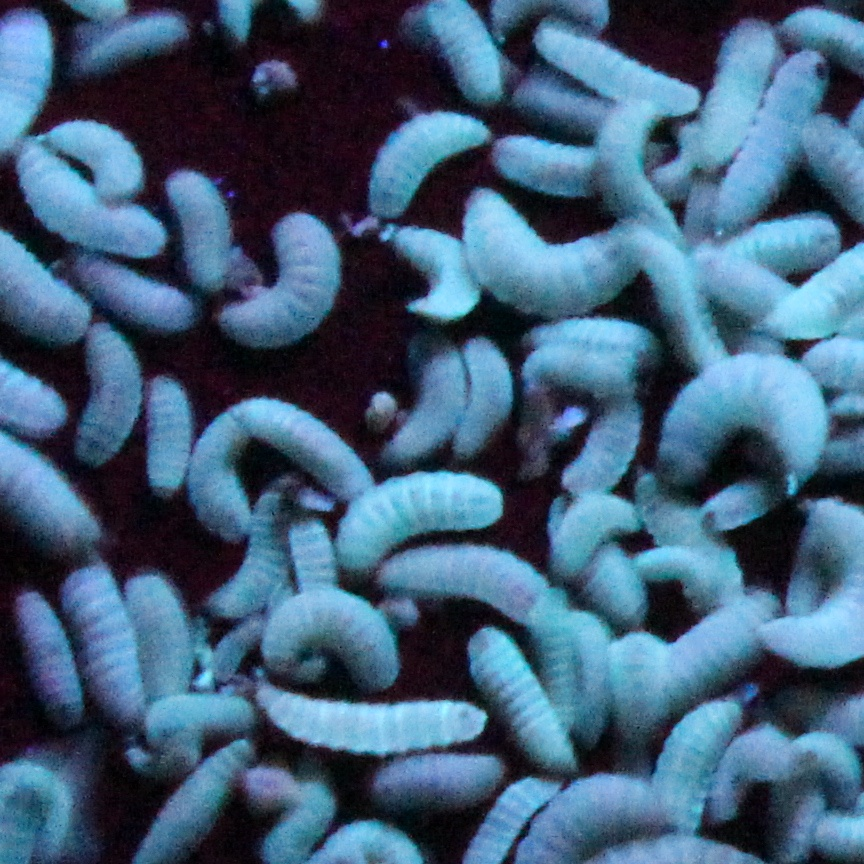larve: (452, 178, 654, 323), (658, 351, 831, 486), (3, 143, 173, 266), (254, 674, 491, 758), (335, 459, 511, 568), (219, 199, 342, 351), (58, 559, 151, 745), (465, 624, 580, 774), (363, 99, 498, 226), (17, 143, 169, 254), (250, 582, 404, 690), (369, 536, 556, 622), (233, 388, 371, 498), (690, 11, 783, 166), (120, 565, 201, 732), (640, 693, 728, 832), (377, 216, 486, 326), (388, 318, 467, 468), (71, 309, 142, 472), (6, 581, 85, 724), (161, 162, 240, 299), (36, 111, 154, 201), (618, 537, 751, 614), (193, 391, 251, 553), (549, 490, 641, 576), (458, 326, 513, 464), (138, 374, 196, 495), (79, 14, 183, 64), (774, 733, 858, 789)
